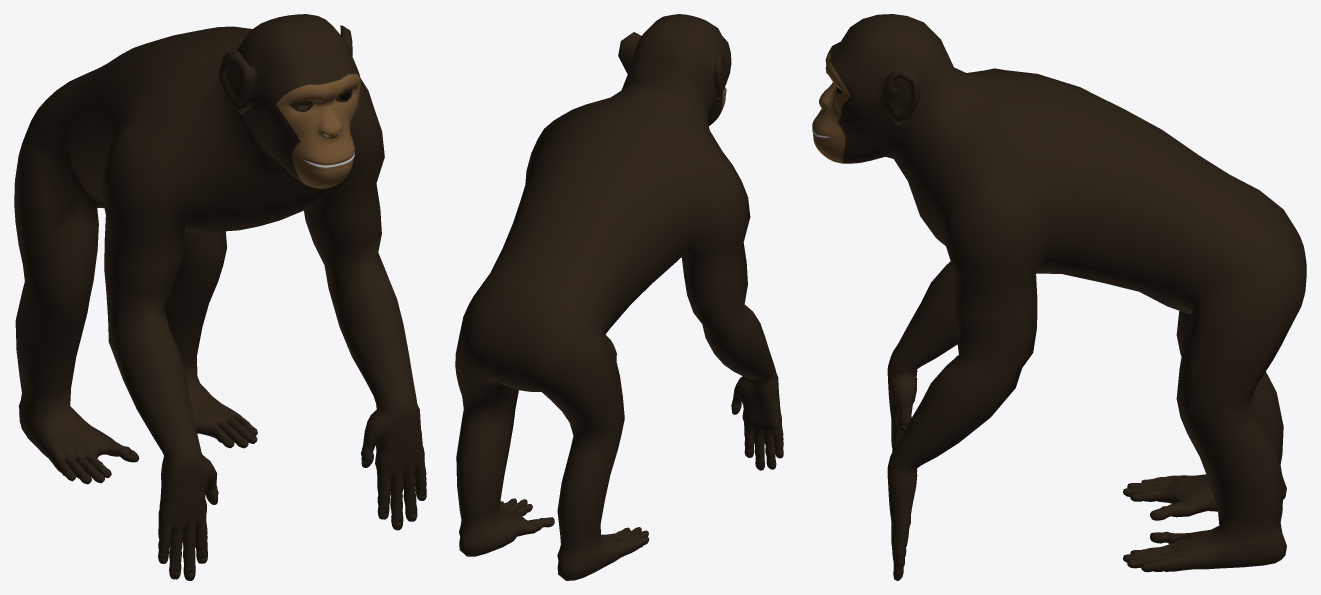
File: monkey.obj
3 views of the same model, side by side, from view 1: azimuth 30°, elevation 25°; view 2: azimuth 150°, elevation 25°; view 3: azimuth 270°, elevation 25° (orthographic). The views are drawn at different scales.
Visible parts, largest first — view 1: monkey; view 2: monkey; view 3: monkey.
Part boxes in pixels (x1,y1,x2,y2): monkey: (14, 14, 426, 580); monkey: (455, 14, 783, 580); monkey: (812, 14, 1306, 580).
Bounding box in the file's own units: 0.4591 × 0.8651 × 0.7598.
